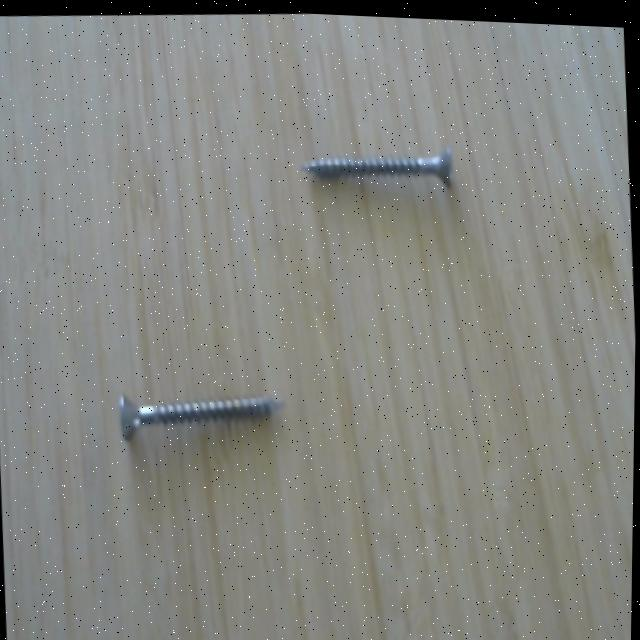Black screw: (115, 380, 299, 449), (296, 136, 460, 186)
